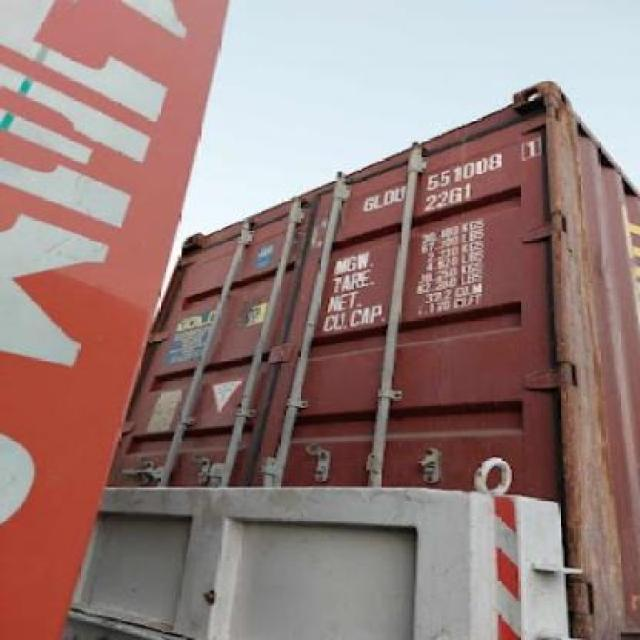ISO: (412, 178, 487, 215)
container_number: (356, 132, 548, 216)
